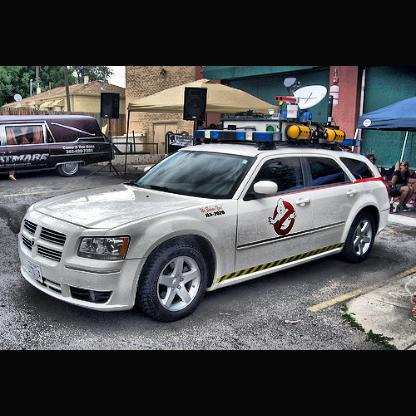Dodge Magnum Wagon 2008: (21, 138, 393, 323)
